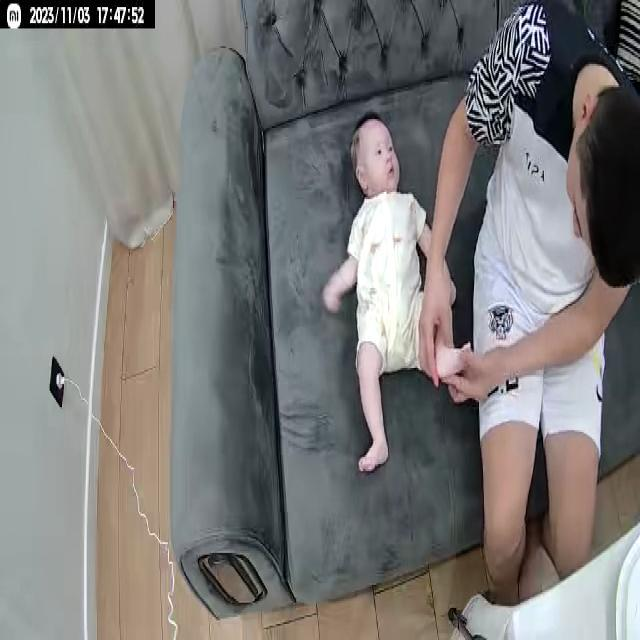baby: (320, 107, 474, 476)
